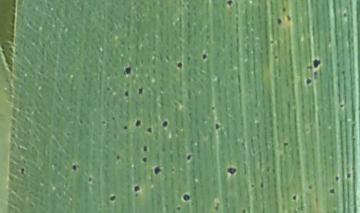tarspot: (223, 163, 240, 179), (68, 159, 82, 175), (179, 191, 194, 205), (197, 49, 211, 64), (119, 63, 135, 76), (157, 118, 173, 130), (105, 191, 119, 204), (151, 163, 164, 177), (132, 115, 143, 131), (312, 56, 323, 72), (130, 181, 143, 194), (211, 120, 223, 134), (211, 198, 223, 212), (16, 162, 27, 177), (111, 152, 123, 165), (134, 84, 146, 97), (302, 76, 316, 87), (280, 137, 291, 151), (141, 141, 151, 155), (183, 151, 194, 163), (207, 102, 218, 114), (84, 173, 94, 186), (121, 87, 131, 100), (175, 59, 184, 73), (144, 126, 155, 137), (283, 15, 295, 25), (327, 184, 336, 197), (345, 170, 354, 182), (338, 100, 347, 112), (140, 155, 150, 165), (290, 192, 300, 202), (305, 183, 315, 193), (121, 122, 130, 133), (223, 1, 234, 10), (274, 16, 283, 27), (333, 172, 340, 185), (340, 10, 348, 21), (279, 4, 288, 13), (250, 181, 257, 192), (239, 205, 248, 213), (259, 180, 265, 191)
